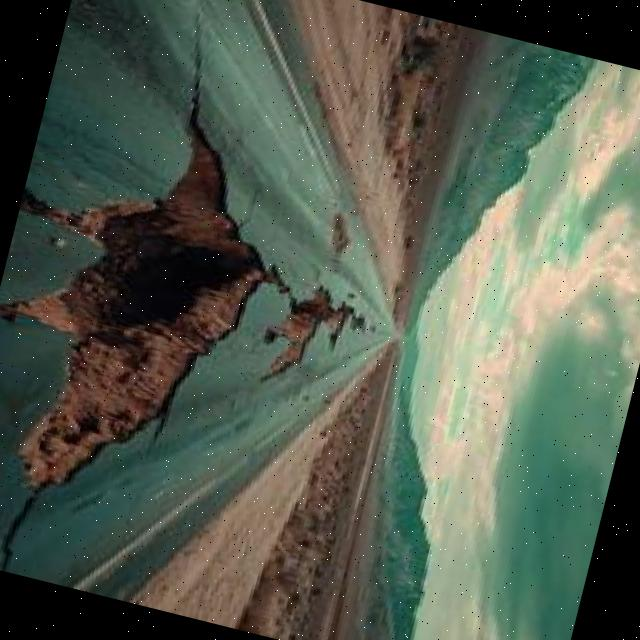road collapse: (0, 37, 428, 578)
